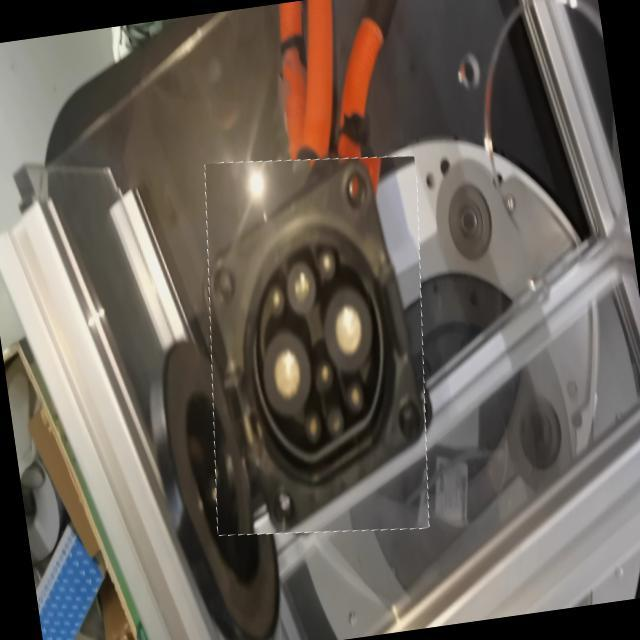GB-T: (210, 199, 426, 476)
